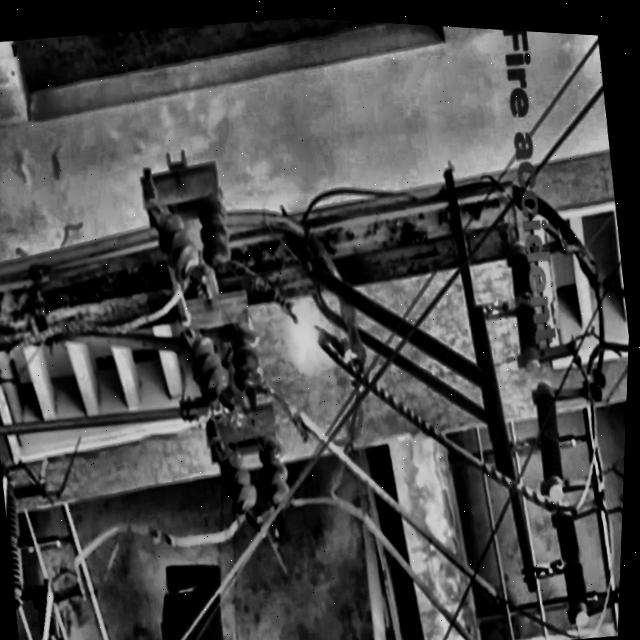Fire: (277, 289, 331, 371)
